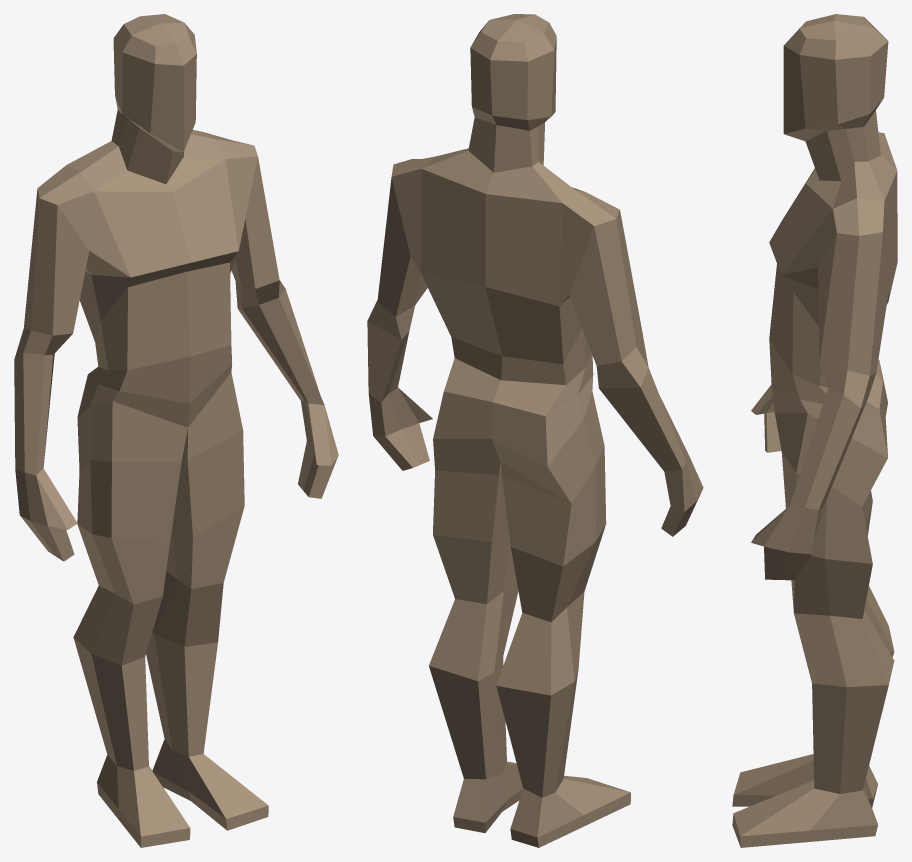
The model's file is dff.fbx.
The picture shows the model from 3 angles, left to right: view 1: azimuth 30°, elevation 25°; view 2: azimuth 150°, elevation 25°; view 3: azimuth 270°, elevation 25°; orthographic projection. The views are drawn at different scales.
Parts seen in each view (by area): view 1: Human; view 2: Human; view 3: Human.
Part boxes in pixels (box(x1,y1,x2,y2)): Human: box(14, 14, 338, 847); Human: box(367, 14, 703, 847); Human: box(732, 14, 897, 847).
Bounding box in the file's own units: 85.74 × 210 × 39.52.
